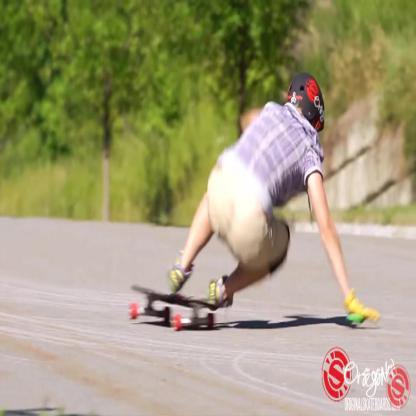Fall_Down: (164, 72, 384, 324)
